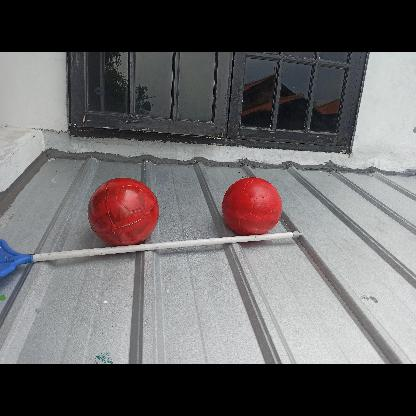red_ball: (88, 176, 160, 246), (222, 176, 282, 236)
